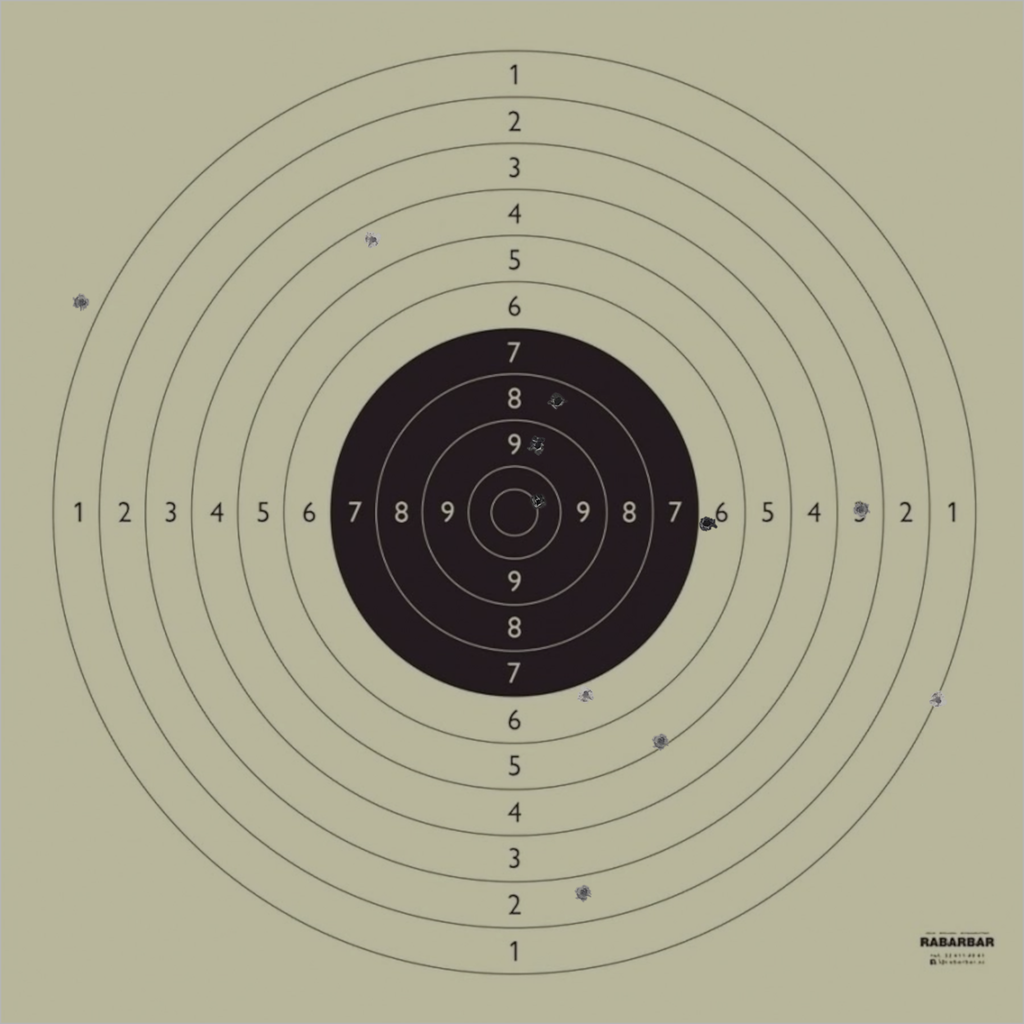0 punktow: (72, 293, 91, 312)
1 punkt: (929, 691, 947, 709)
10 punktow: (529, 493, 547, 512)
2 punkty: (574, 883, 593, 902)
3 punkty: (852, 500, 870, 519)
4 punkty: (364, 231, 382, 249)
5 punktow: (652, 732, 670, 750)
6 punktow: (577, 685, 595, 704)
7 punktow: (698, 514, 716, 533)
8 punktow: (548, 392, 567, 411)
9 punktow: (529, 436, 547, 454)
